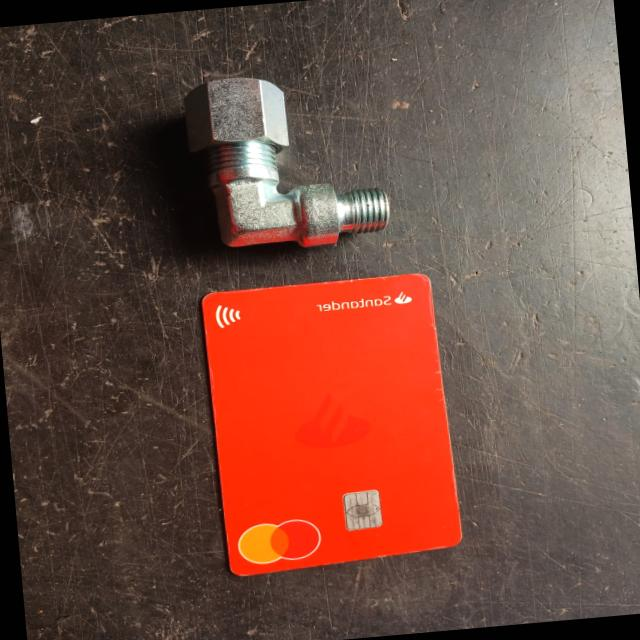cartao: (202, 272, 462, 578)
rosca_externa: (179, 66, 392, 256)
